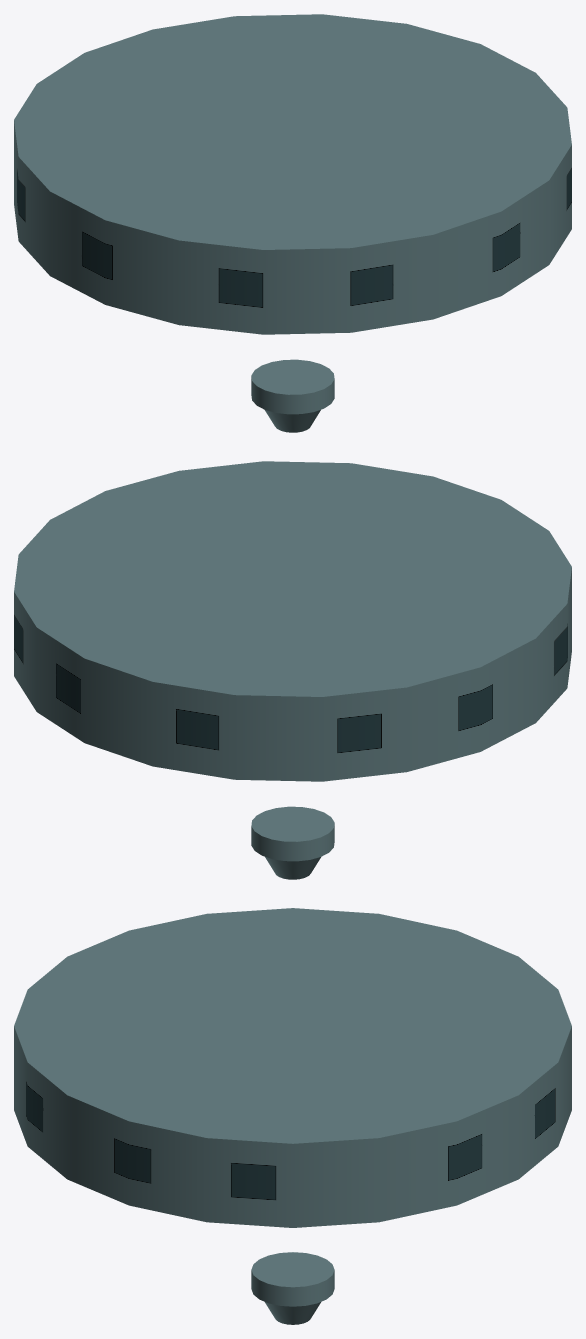
Rendered from lamparaMarcelineMetal.obj.
3 views of the same model, one above another, from view 1: azimuth 30°, elevation 25°; view 2: azimuth 150°, elevation 25°; view 3: azimuth 270°, elevation 25° (orthographic).
Parts seen in each view (by area): view 1: lamparaMarcelineMetal_pCylinder5; view 2: lamparaMarcelineMetal_pCylinder5; view 3: lamparaMarcelineMetal_pCylinder5.
Boxes of the visible parts, x1=… form: lamparaMarcelineMetal_pCylinder5: x1=14, y1=14, x2=571, y2=432; lamparaMarcelineMetal_pCylinder5: x1=14, y1=461, x2=571, y2=879; lamparaMarcelineMetal_pCylinder5: x1=14, y1=908, x2=571, y2=1324.
Size of the model in its own units: 1.73 by 0.9953 by 1.73.
